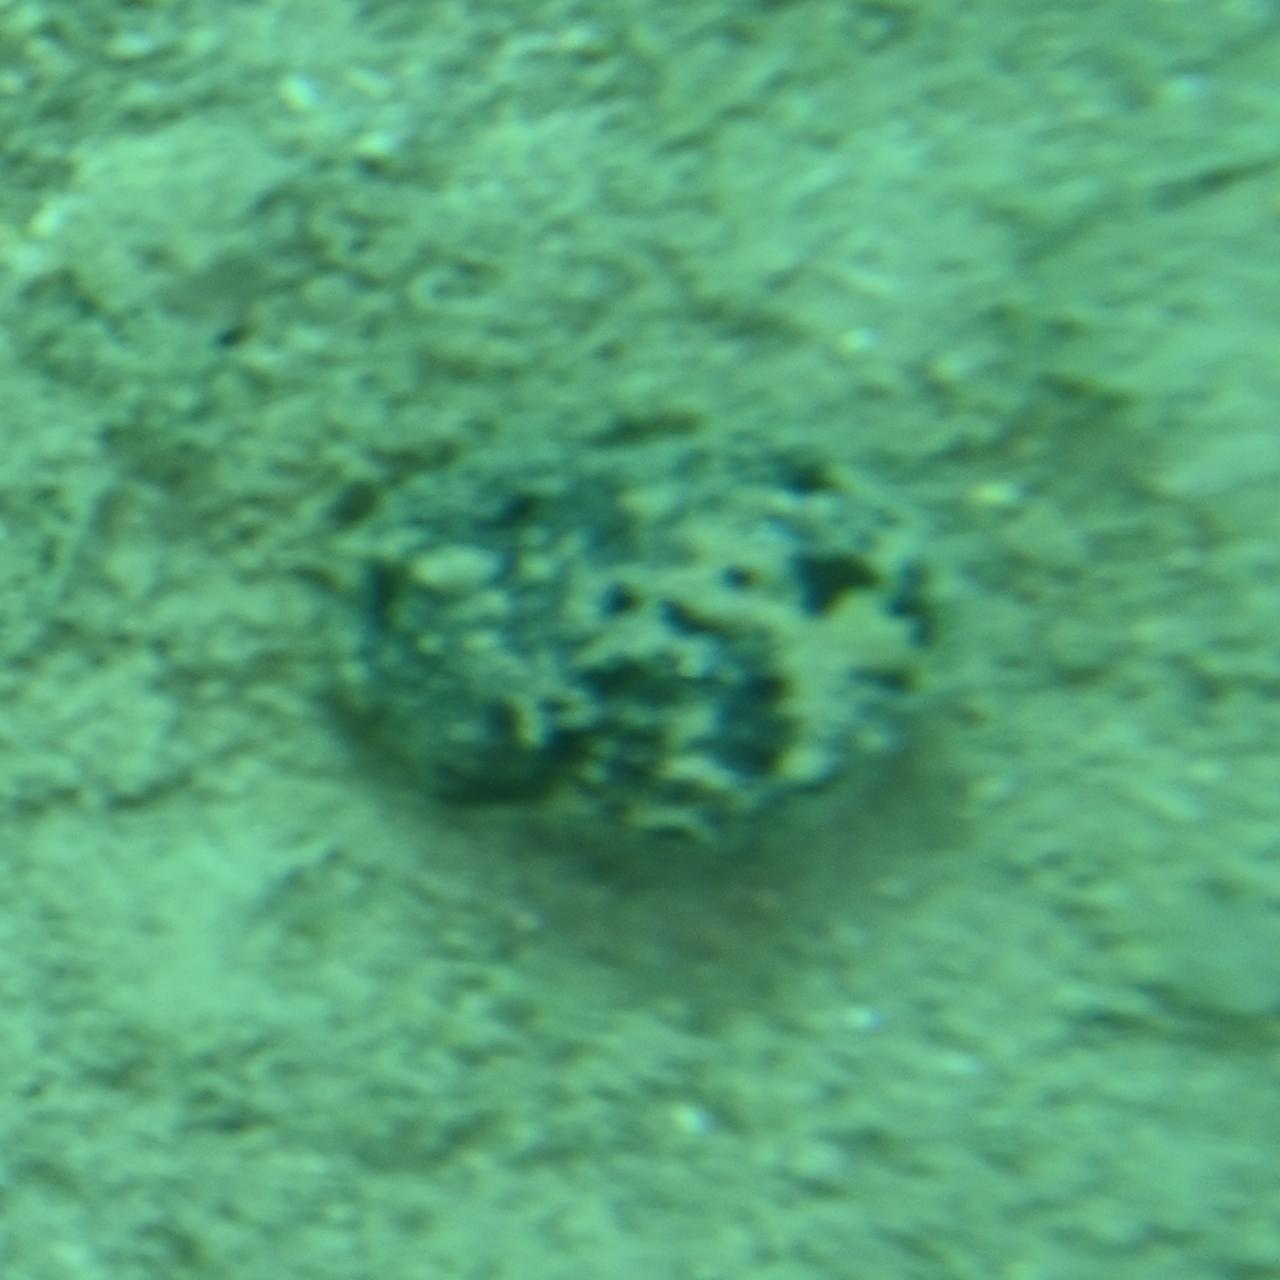Keratosa -cfr Sarcotragus-: (307, 403, 973, 877)
